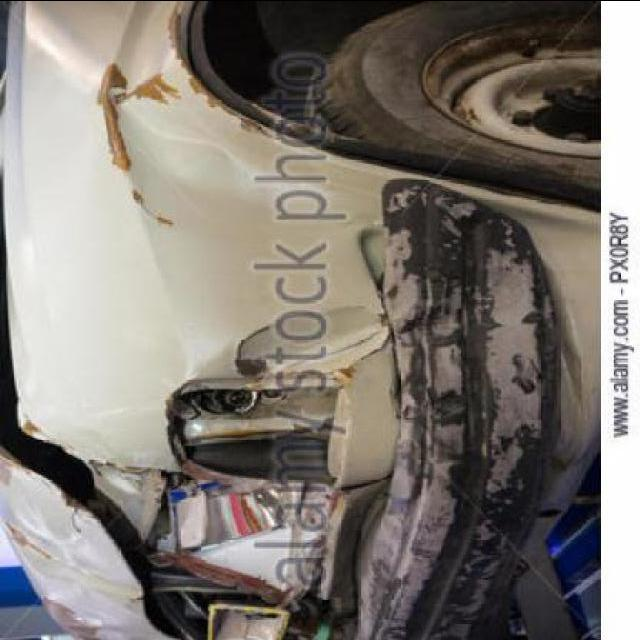fender-dent: (0, 2, 414, 301)
front-bumper-dent: (237, 206, 639, 640)
